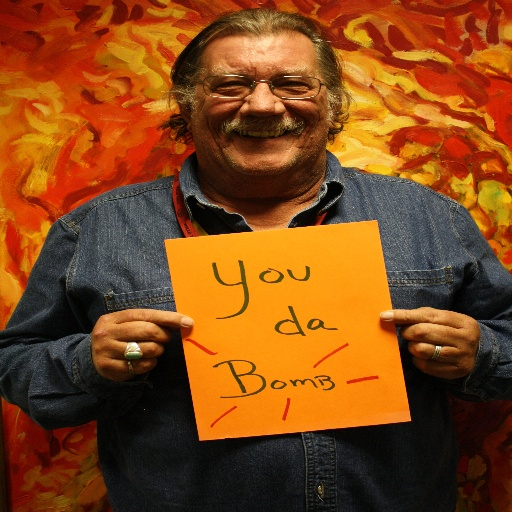hand: (79, 305, 196, 394), (374, 303, 486, 382)
